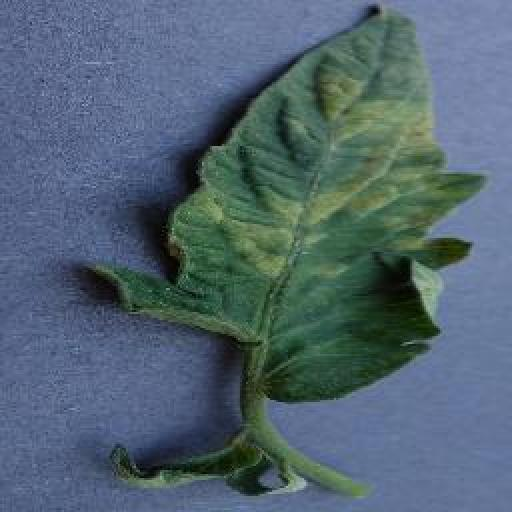disease_tomato: (87, 3, 488, 405)
